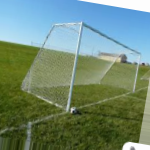goals: (22, 21, 142, 115)
